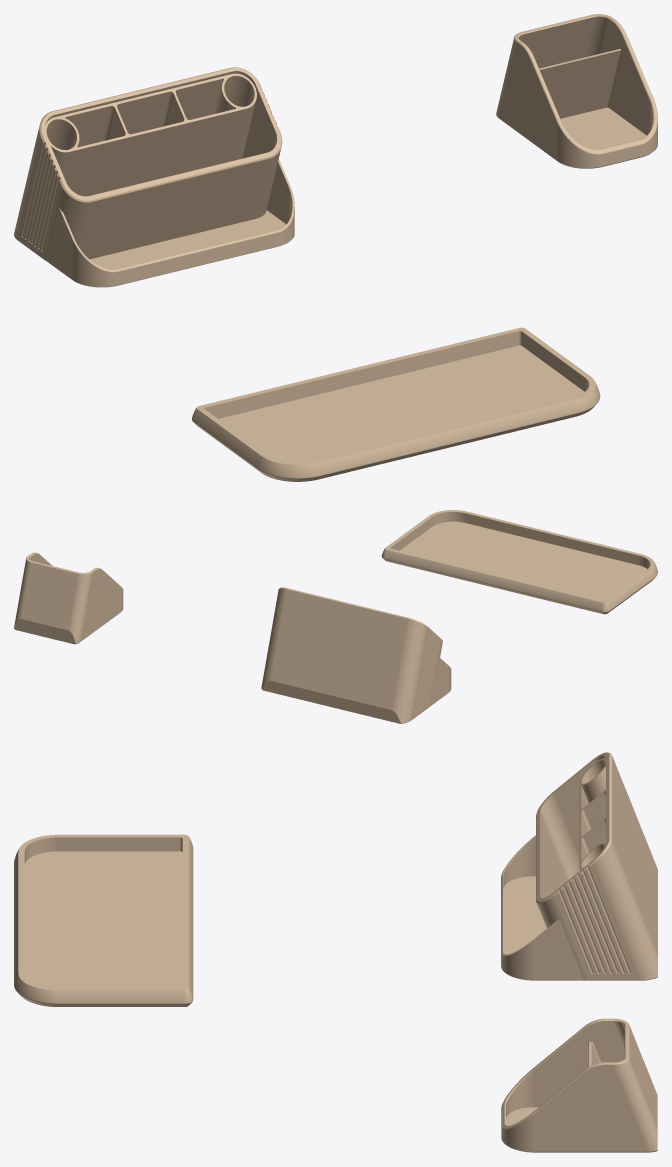
The model's file is phone-stand.glb.
3 views of the same model, one above another, from view 1: azimuth 30°, elevation 25°; view 2: azimuth 150°, elevation 25°; view 3: azimuth 270°, elevation 25° (orthographic). The views are drawn at different scales.
Visible parts, largest first — view 1: Node8, Node12, Node4; view 2: Node8, Node12, Node4; view 3: Node12, Node8, Node4.
Part boxes in pixels (x1,y1,x2,y2): Node8: (14, 67, 294, 287); Node12: (192, 327, 600, 481); Node4: (496, 14, 657, 168); Node8: (261, 587, 451, 723); Node12: (381, 510, 657, 614); Node4: (14, 552, 123, 644); Node12: (14, 834, 193, 1006); Node8: (501, 752, 657, 980); Node4: (501, 1018, 657, 1152).
Bounding box in the file's own units: 464 × 94.01 × 416.
